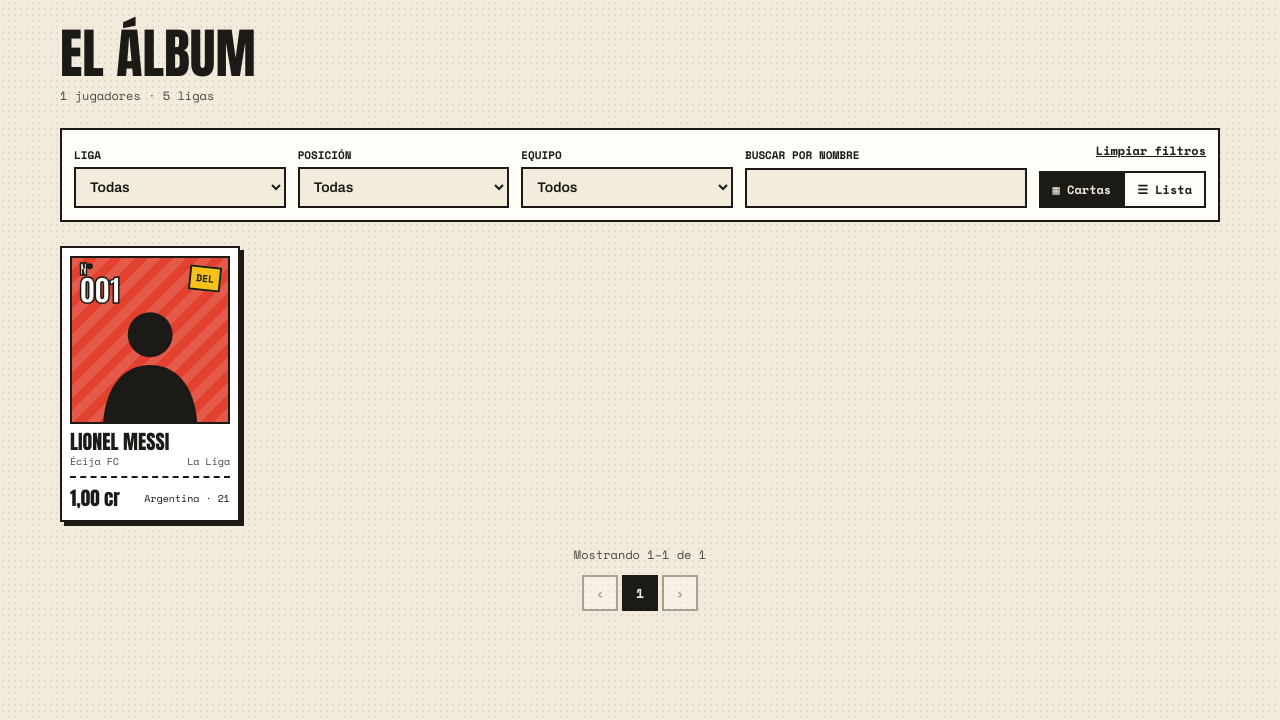
Test: AlbumPage › clears all filters from the no-results state
Expected: the text "1 jugadores · 5 ligas" is shown, [60, 87, 214, 104]
Type "nadie" into the field labelled "Buscar por nombre".
click(886, 188); type("nadie")  # box [745, 168, 1026, 208]
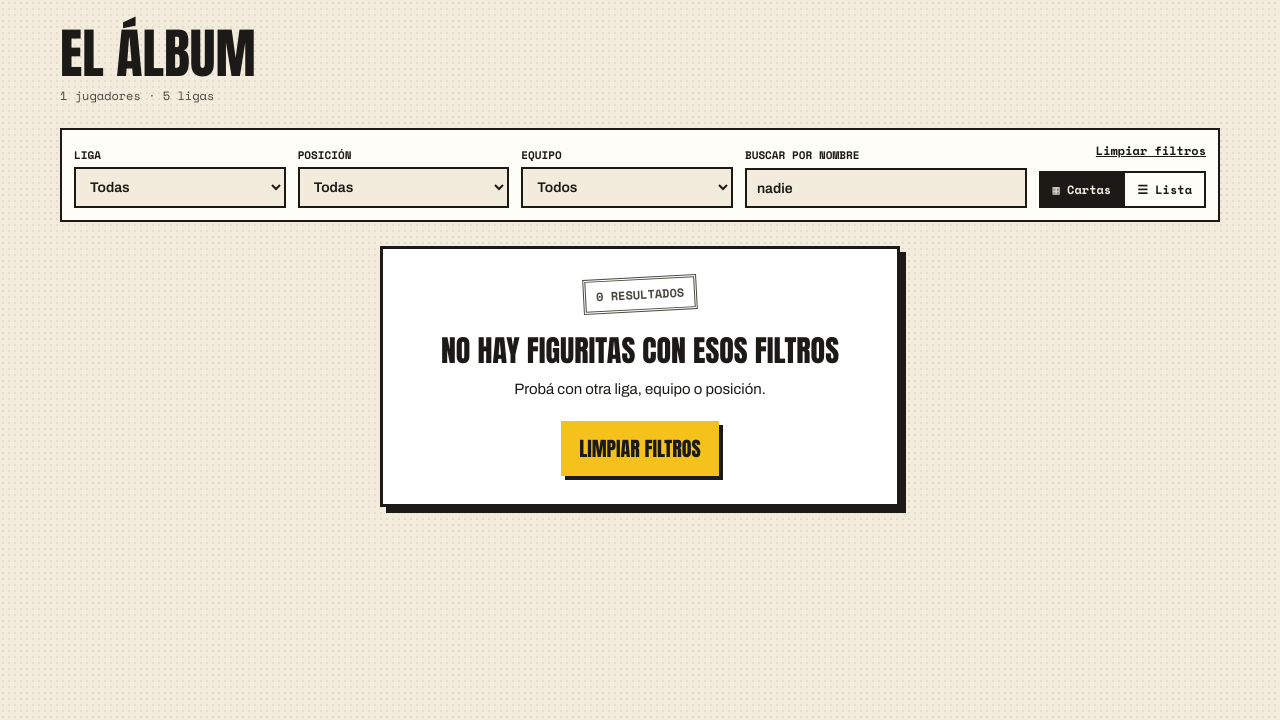
Expected: the heading "No hay figuritas con esos filtros" is shown, [407, 328, 873, 373]
Expected: the text "0 resultados" is shown, [582, 274, 698, 315]
Click the button "Limpiar filtros" below "Probá con otra liga, equipo o posición.".
click(640, 449)  # box [561, 421, 719, 476]
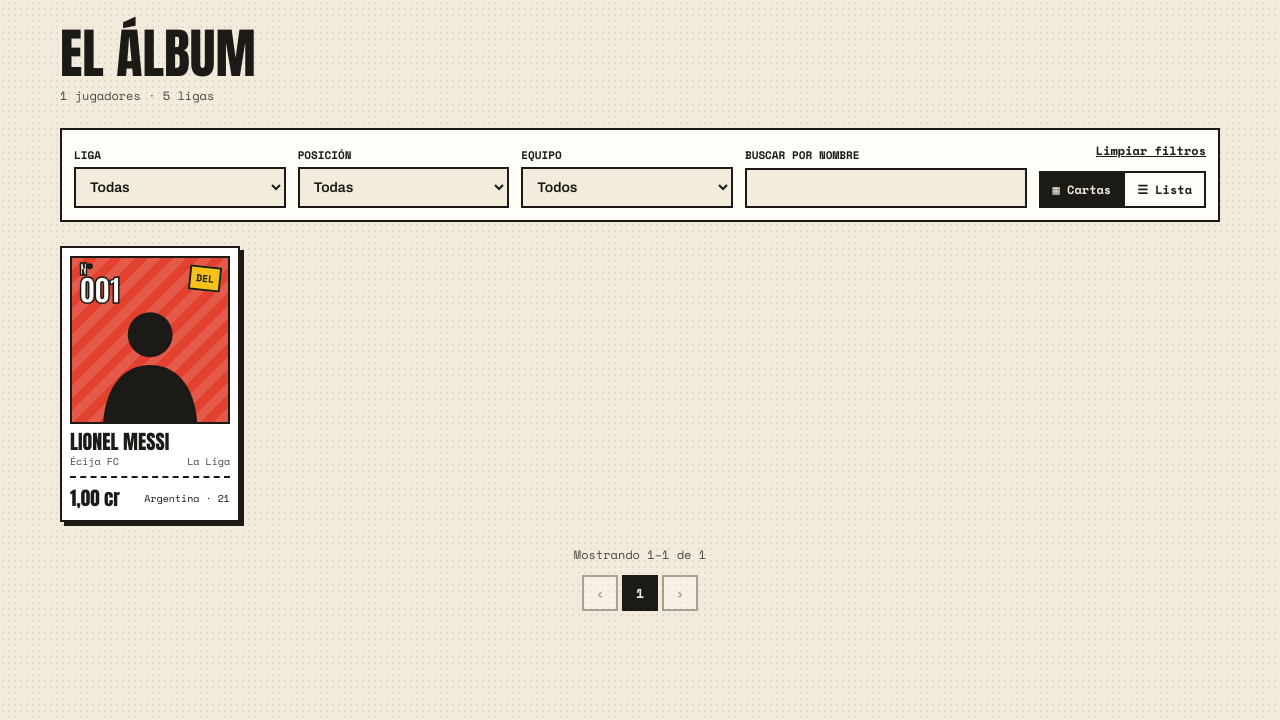
Expected: the element "Lionel Messi" is shown, [60, 246, 240, 522]
Expected: the field labelled "Buscar por nombre" is empty, [745, 168, 1026, 208]
